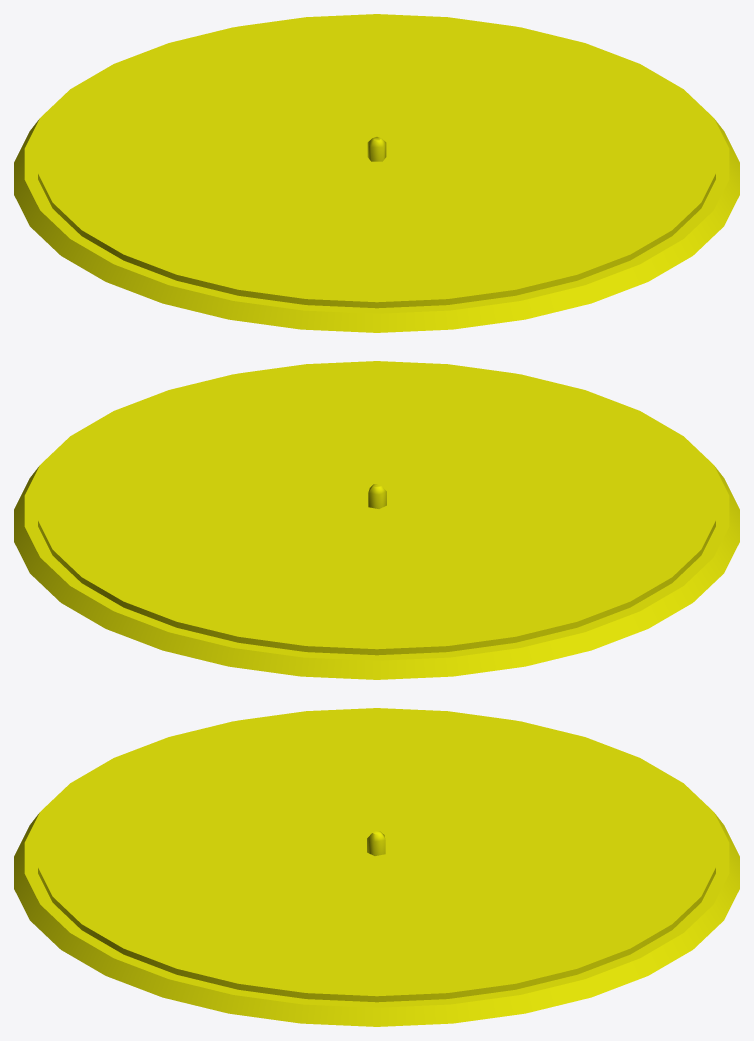
File: Record.fbx
3 renders of one model, top to bottom at view 1: azimuth 30°, elevation 25°; view 2: azimuth 150°, elevation 25°; view 3: azimuth 270°, elevation 25°, orthographic.
Parts seen in each view (by area): view 1: Record4; view 2: Record4; view 3: Record4.
Boxes of the visible parts, x1,y1,x2,y2 form: Record4: (14, 14, 739, 332); Record4: (14, 361, 739, 679); Record4: (14, 708, 739, 1026).
Bounding box in the file's own units: 167 × 10.08 × 166.
